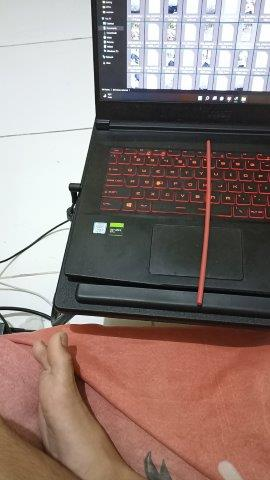sedotan: (197, 141, 211, 303)
